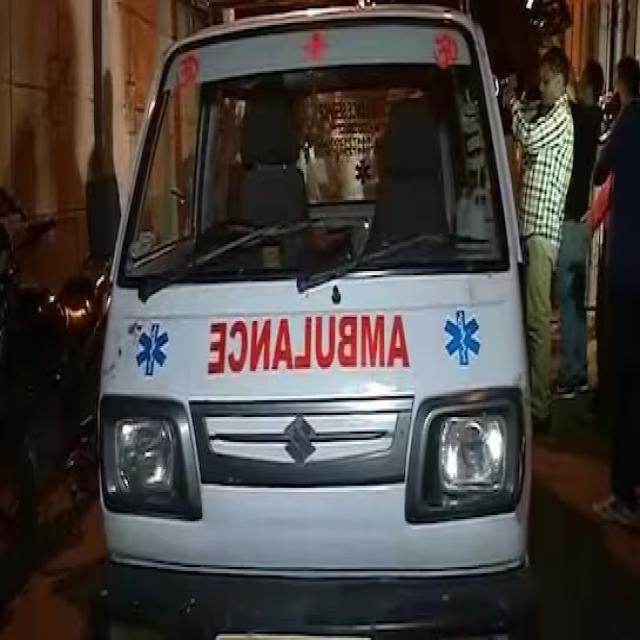Ambulance: (94, 9, 541, 640)
